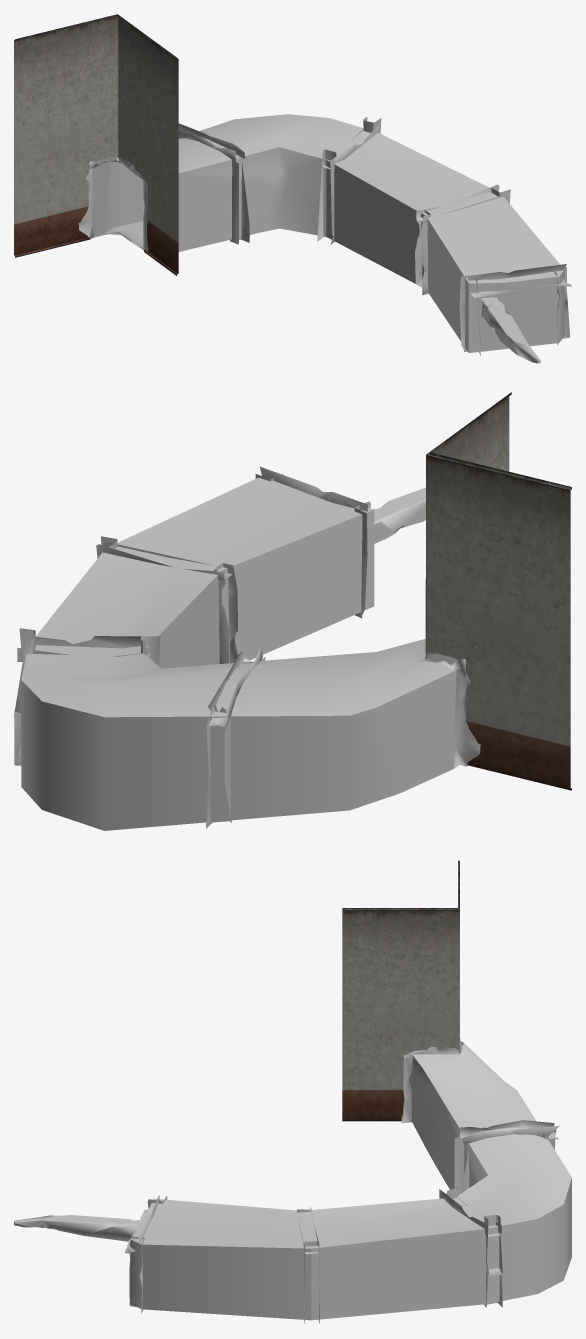
The model's file is 01_01_waitingroom_flat_short_robot_tunnel.dae.
3 views of the same model, one above another, from view 1: azimuth 30°, elevation 25°; view 2: azimuth 150°, elevation 25°; view 3: azimuth 270°, elevation 25° (orthographic). The views are drawn at different scales.
Visible parts, largest first — view 1: pCube1, scanningroom_concave, polySurface2044; view 2: pCube1, scanningroom_concave, polySurface2044; view 3: pCube1, scanningroom_concave, polySurface2044.
Boxes of the visible parts, x1,y1,x2,y2 form: pCube1: (92,114,564,352); scanningroom_concave: (14,14,178,275); polySurface2044: (78,117,571,363); pCube1: (21,477,456,830); scanningroom_concave: (425,392,571,790); polySurface2044: (14,466,480,828); pCube1: (130,1043,571,1320); scanningroom_concave: (342,860,459,1121); polySurface2044: (14,1038,559,1323).
Size of the model in its own units: 800 by 507 by 949.
